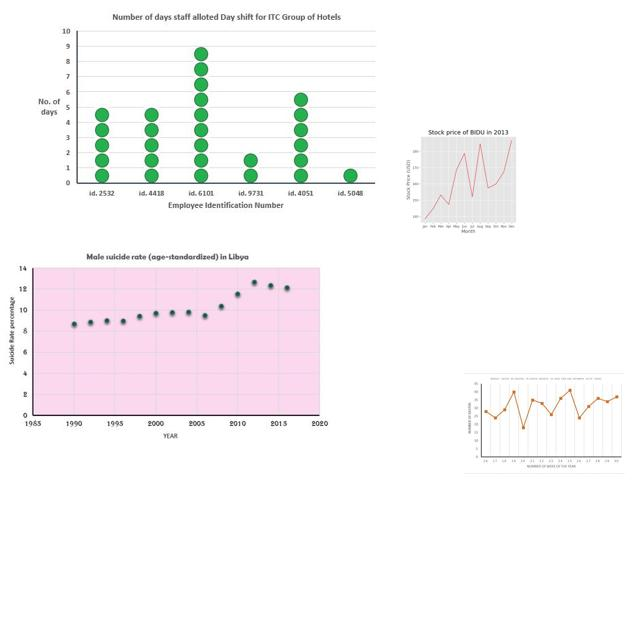Graph: (31, 4, 382, 221), (5, 247, 330, 439), (392, 123, 541, 235), (464, 373, 625, 474)
